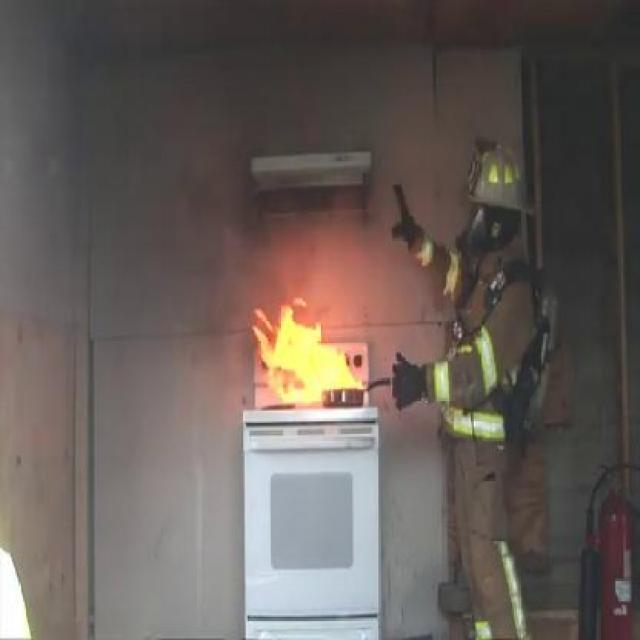fire: (250, 284, 364, 398)
